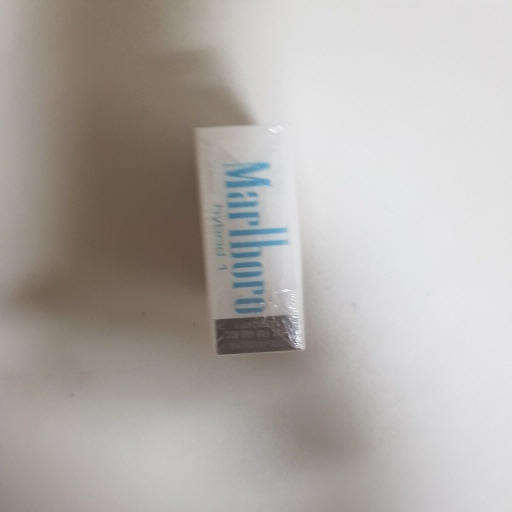Paper_0: (172, 112, 331, 377)
